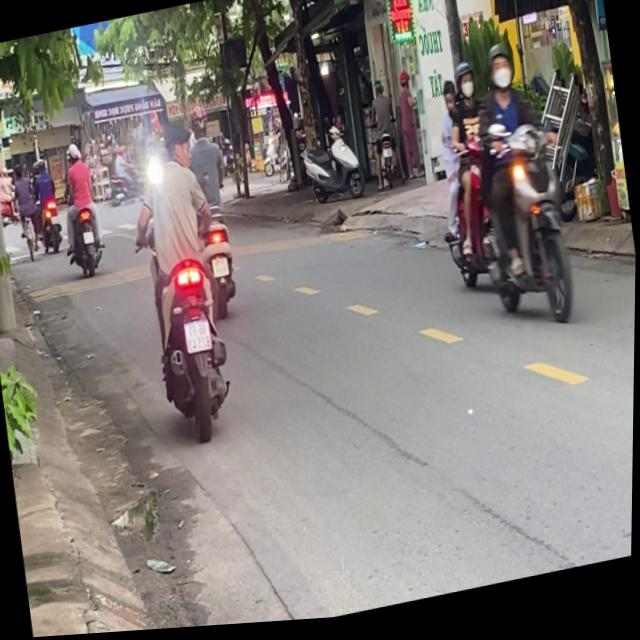helmet: (484, 45, 518, 101), (452, 63, 477, 106), (189, 106, 210, 141)
licenseplate: (424, 36, 587, 350), (118, 108, 244, 450), (460, 36, 586, 341), (419, 59, 513, 316), (178, 100, 248, 324)
motorcyclist: (440, 81, 458, 115)
nohelmet: (185, 320, 213, 355), (211, 257, 230, 280)
